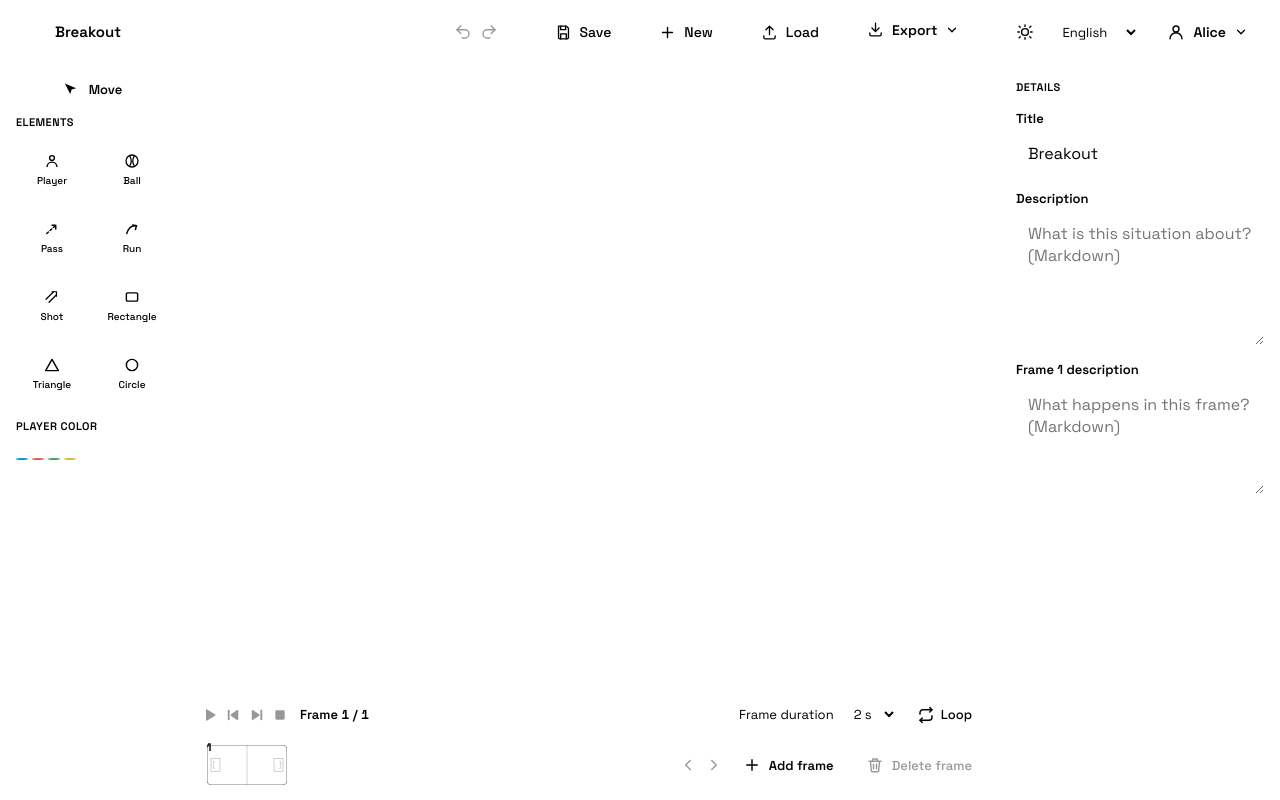
Test case: editor page: saving on the server › logged in › Save is disabled without unsaved changes; Ctrl+S then only keeps the browser's dialog away
Click the button "Save" at (583, 32), box [538,23,627,41]
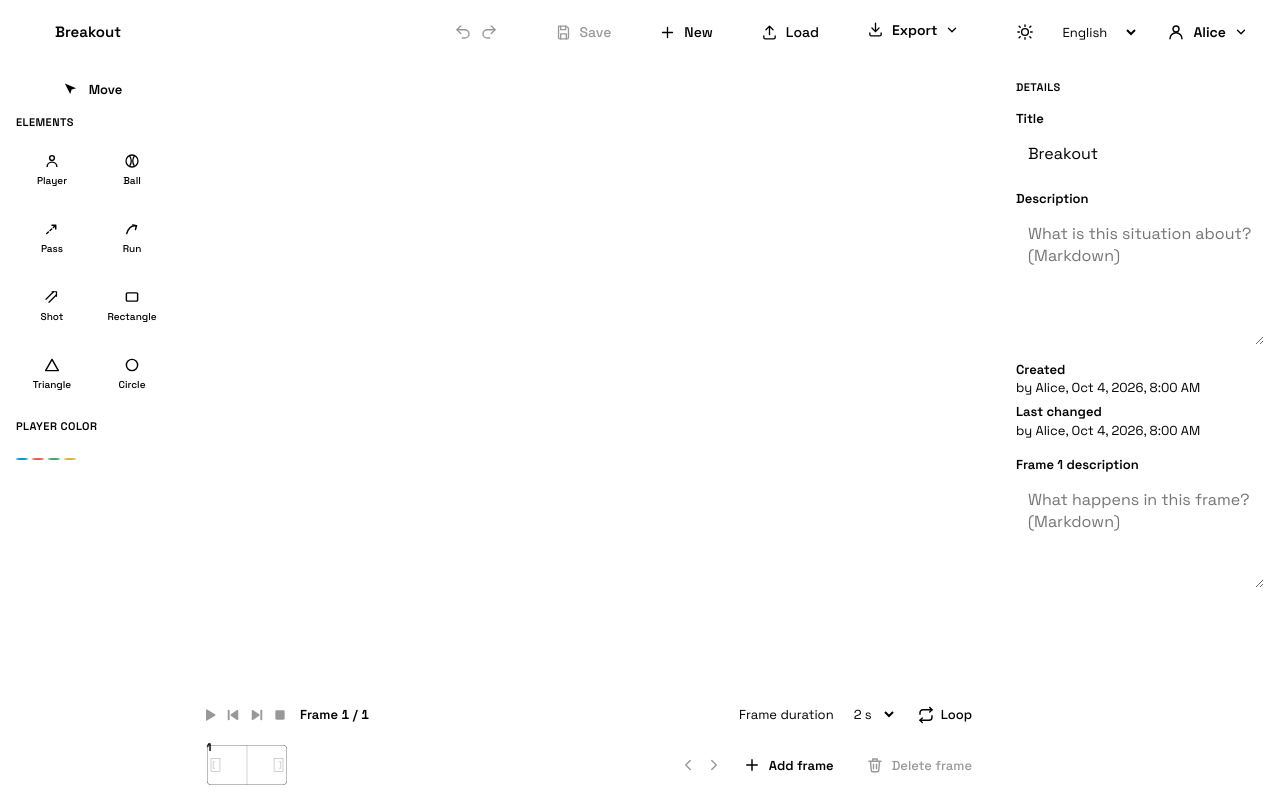
Result: the button "Save" is disabled at [538,23,627,41]
Press s
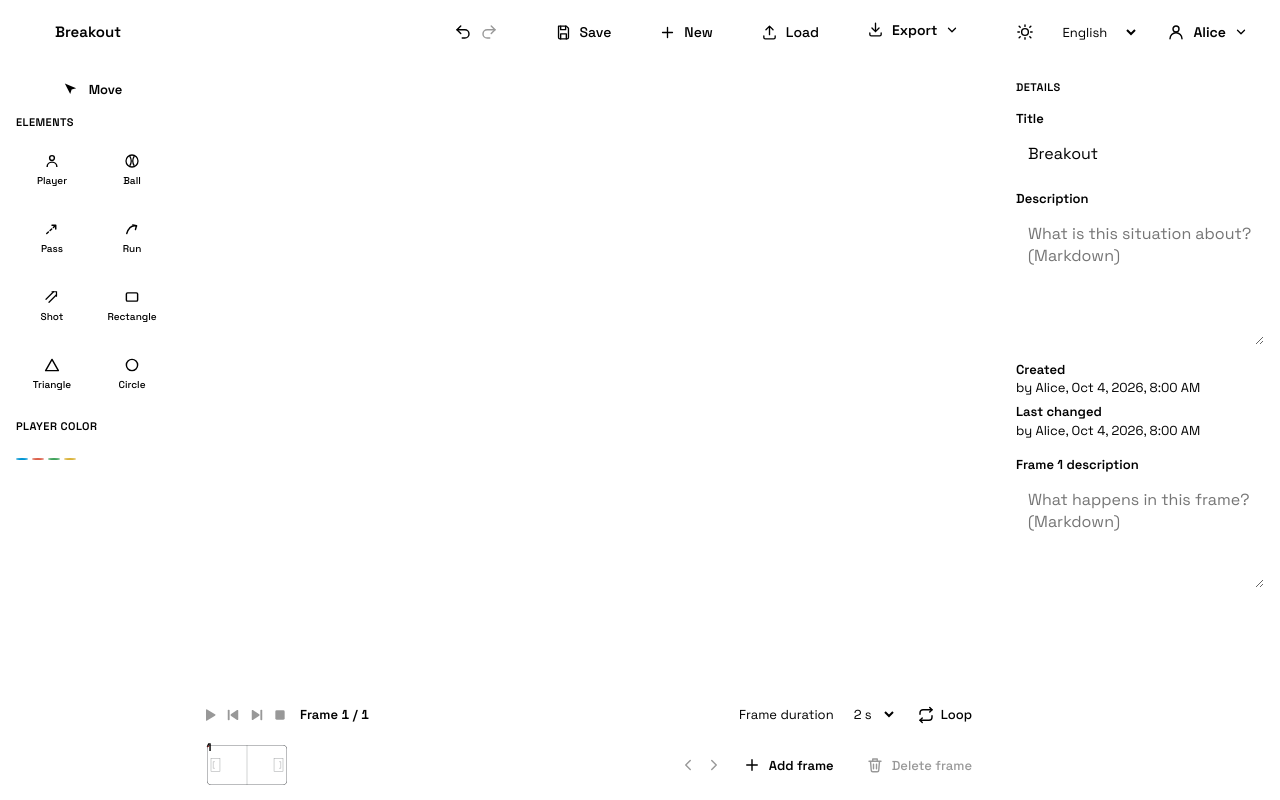
Result: the button "Save" is enabled at [538,23,627,41]
